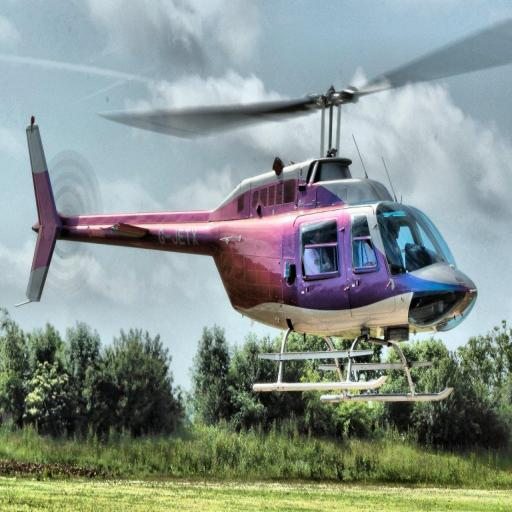helicopter: (20, 82, 494, 410)
